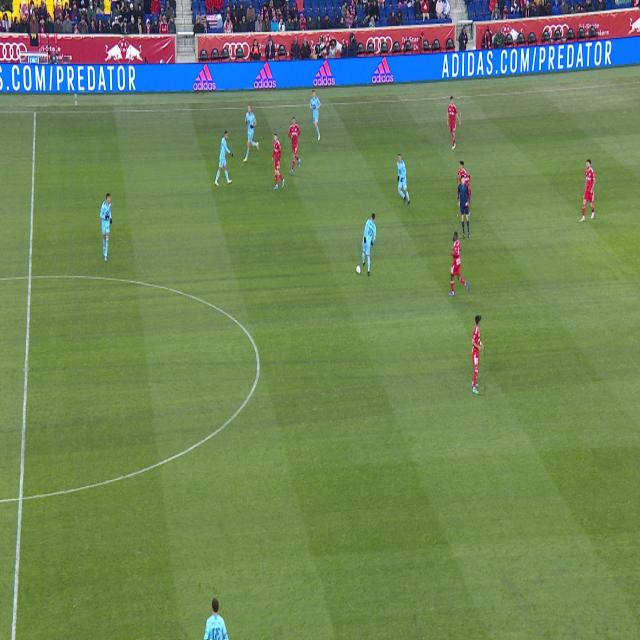football: (356, 265, 361, 274)
player: (448, 232, 469, 296), (214, 131, 233, 186), (580, 159, 596, 222), (204, 599, 228, 640), (472, 315, 484, 394), (243, 104, 259, 162), (362, 213, 376, 276), (100, 194, 112, 261), (272, 134, 285, 190), (289, 117, 301, 174), (397, 154, 410, 206), (457, 161, 469, 217), (448, 96, 460, 151), (310, 91, 321, 141)
referee: (458, 176, 470, 238)
